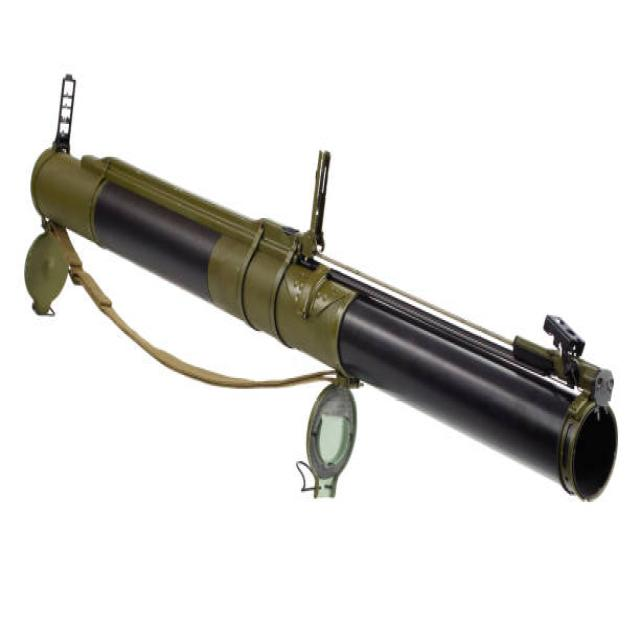bazooka: (22, 60, 625, 512)
